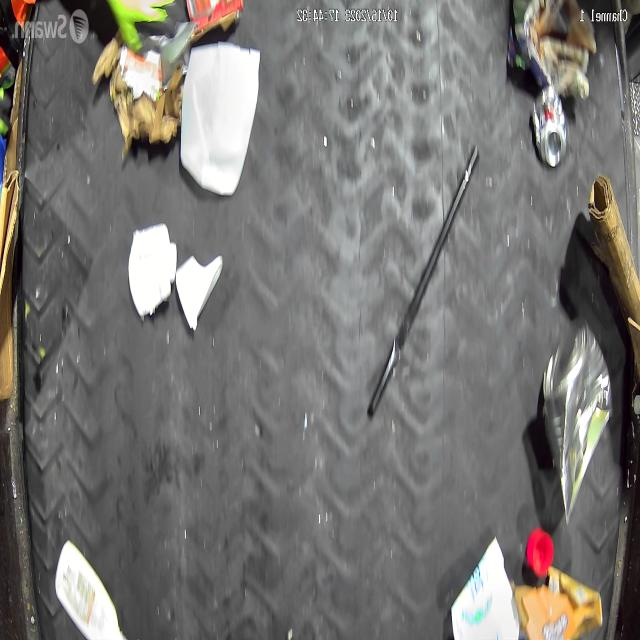can: (541, 322, 615, 525), (526, 78, 573, 172)
milk_jug: (184, 48, 258, 189)
